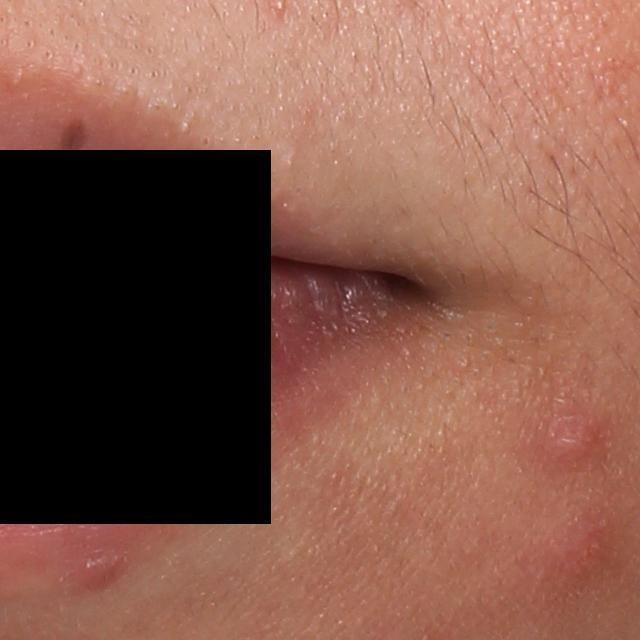nevus: (61, 111, 98, 157)
papule: (513, 504, 626, 599), (529, 399, 616, 472), (72, 545, 139, 599)
